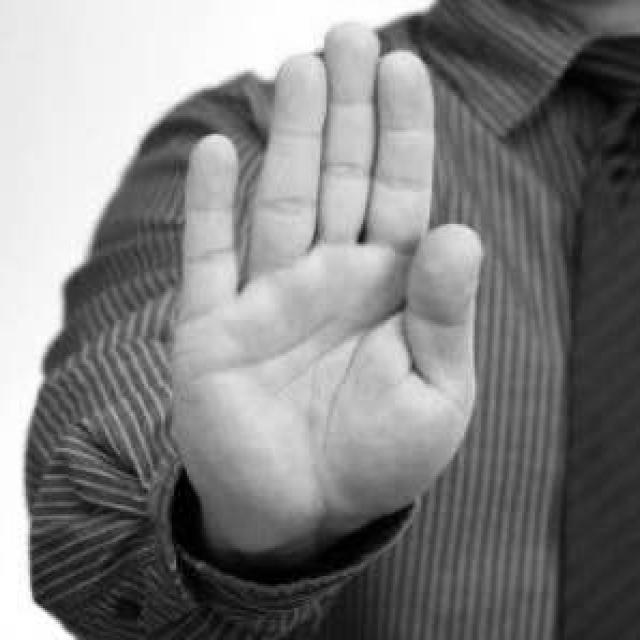stop: (159, 13, 489, 577)
